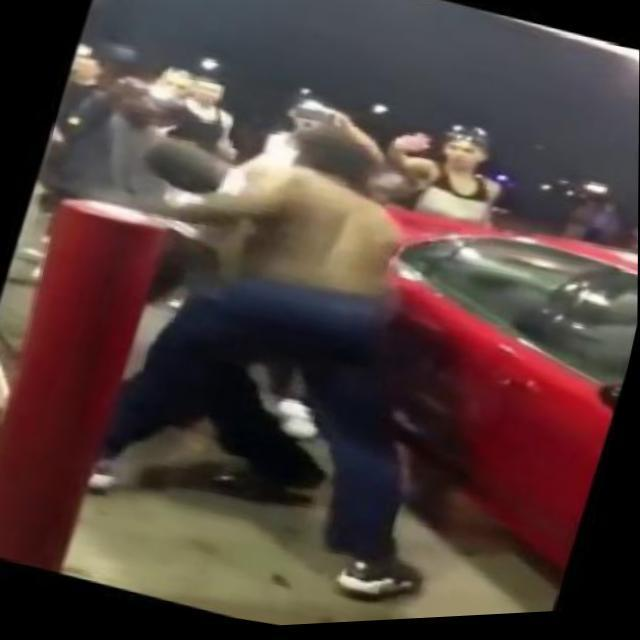fight: (50, 45, 488, 569)
